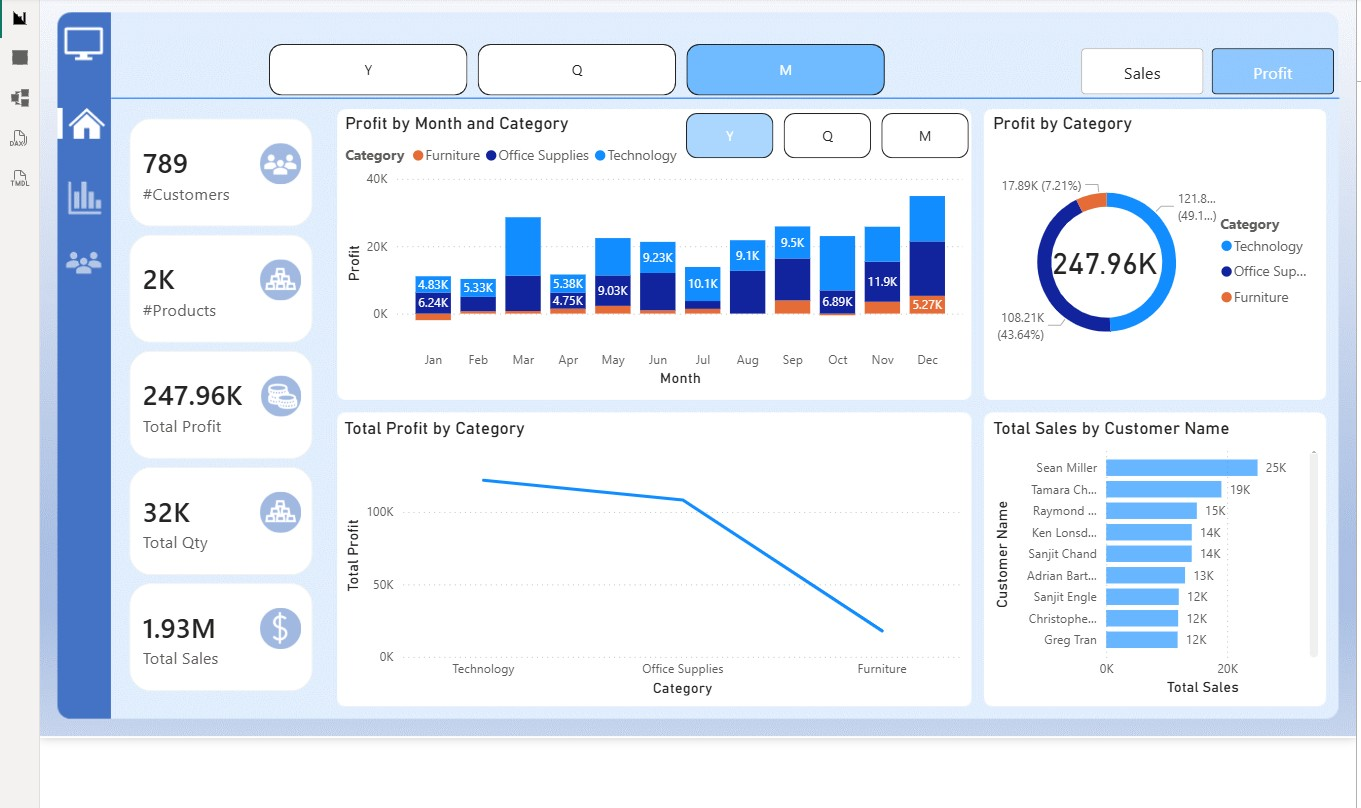

Layout of this report page (visuals, bound fields, positions):
{"tool":"powerbi","page":{"name":"Page 1","canvas":[1280,720],"ordinal":0},"visuals":[{"type":"cardVisual","fields":{"Data":["Measuress.#Customers","Measuress.#Products","Measuress.Total Profit","Measuress.Total Qty","Measuress.Total Sales"]},"box":[70.2,99.9,212.9,594.8],"z":0},{"type":"columnChart","fields":{"Y":["Measuress.Total Profit"],"Series":["Dim Product.Category"],"Category":["DimDate.Year Hierarchy.Year","DimDate.Year Hierarchy.Qtr","DimDate.Year Hierarchy.Month"]},"box":[291.4,111.8,611.4,271.2],"z":1000},{"type":"advancedSlicerVisual","fields":{"Values":["Parameter.Parameter"]},"box":[1007.6,44,257,55.9],"z":2000},{"type":"donutChart","fields":{"Y":["Measuress.Total Profit"],"Category":["Dim Product.Category"]},"box":[921.9,111.8,325.9,271.2],"z":3000},{"type":"card","fields":{"Values":["Measuress.Total Profit"]},"box":[955.2,205.8,160.6,101.1],"z":4000},{"type":"clusteredBarChart","fields":{"Y":["Measuress.Total Sales"],"Category":["Dim Customer.Customer Name"]},"box":[921.9,408,325.9,274.8],"z":5000},{"type":"bookmarkNavigator","box":[627.8,111.6,276,44.3],"z":6000},{"type":"bookmarkNavigator","box":[223.1,44.3,600.7,50.1],"z":7000},{"type":"lineChart","fields":{"Category":["Dim Product.Category"],"Y":["Measuress.Total Profit"]},"box":[290.8,408.5,610.8,275.3],"z":7001}]}

Visuals, with their boxes on the page's 1280x720 design canvas (x1, y1, x2, y2). These are canvas units, not pixel positions in the 1361x808 screenshot, which may show the page scaled, cropped or inside an application window:
cardVisual - Measuress.#Customers x Measuress.#Products: 70,100,283,695
columnChart - Measuress.Total Profit x Dim Product.Category: 291,112,903,383
advancedSlicerVisual - Parameter.Parameter: 1008,44,1265,100
donutChart - Measuress.Total Profit x Dim Product.Category: 922,112,1248,383
card - Measuress.Total Profit: 955,206,1116,307
clusteredBarChart - Measuress.Total Sales x Dim Customer.Customer Name: 922,408,1248,683
bookmarkNavigator: 628,112,904,156
bookmarkNavigator: 223,44,824,94
lineChart - Dim Product.Category x Measuress.Total Profit: 291,408,902,684
